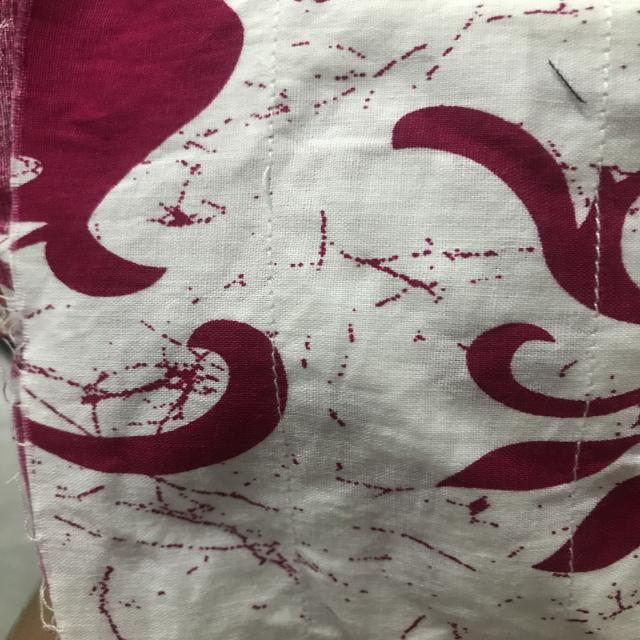skip: (242, 152, 313, 228)
